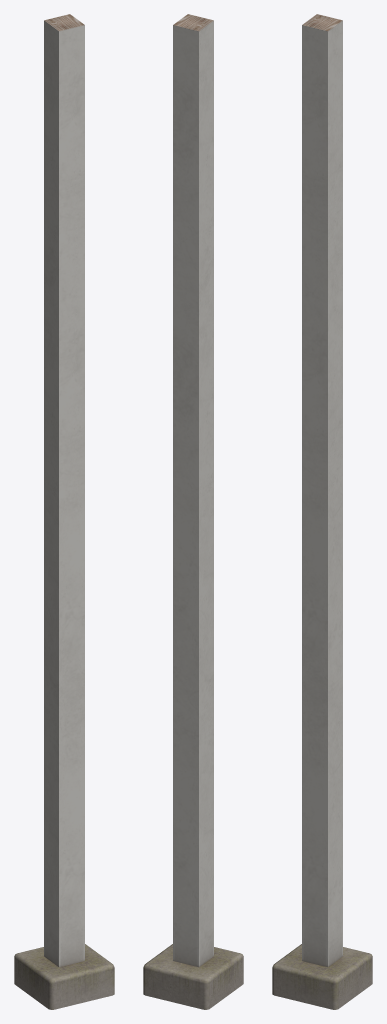
The model's file is Mesh_GardenhousePillar.fbx.
3 views of the same model, side by side, from view 1: azimuth 30°, elevation 25°; view 2: azimuth 150°, elevation 25°; view 3: azimuth 330°, elevation 25° (orthographic).
Visible parts, largest first — view 1: Mesh_GreenhousePillar_LOD0; view 2: Mesh_GreenhousePillar_LOD0; view 3: Mesh_GreenhousePillar_LOD0.
Boxes of the visible parts, x1,y1,x2,y2 form: Mesh_GreenhousePillar_LOD0: (14,14,114,1009); Mesh_GreenhousePillar_LOD0: (143,14,243,1009); Mesh_GreenhousePillar_LOD0: (272,14,372,1009).
Size of what is drawn, in the model's own units: 0.2 by 2.8 by 0.2.
